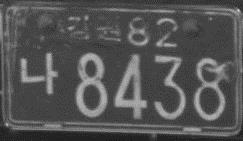2: (155, 17, 177, 48)
3: (152, 54, 186, 120)
4: (113, 54, 146, 119)
8: (74, 51, 109, 118), (193, 57, 225, 120), (126, 15, 149, 45)
강원_O: (66, 14, 122, 42)
나: (18, 52, 58, 94)
